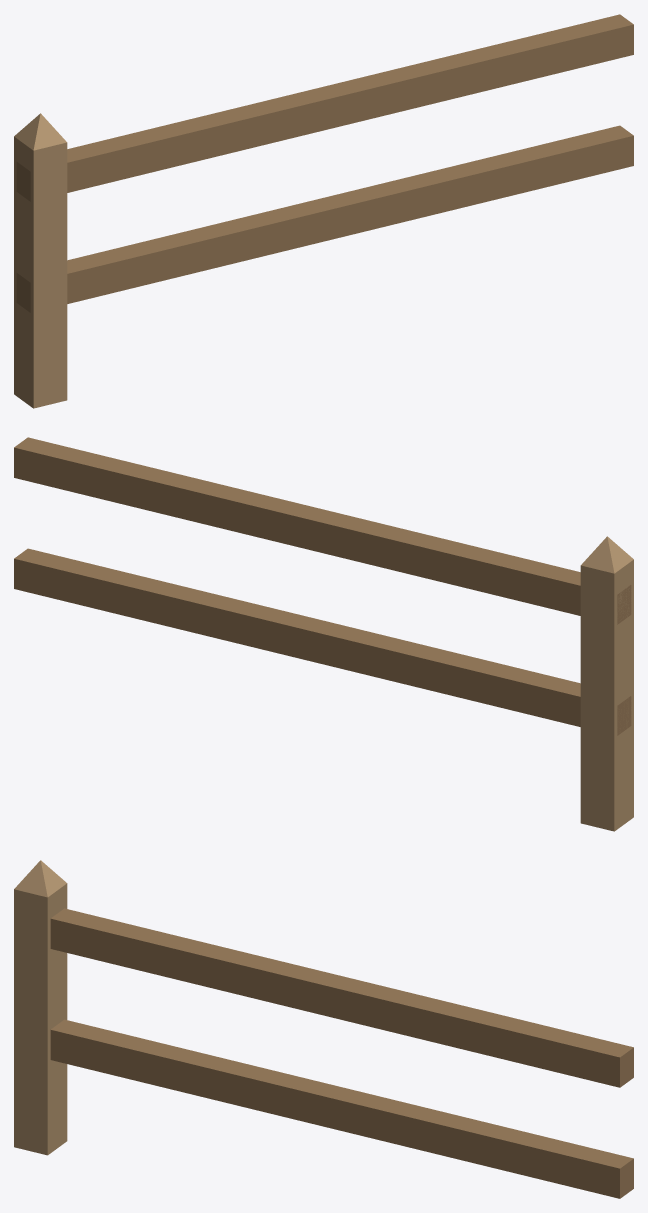
Rendered from fence_segment_01.glb.
3 views of the same model, one above another, from view 1: azimuth 30°, elevation 25°; view 2: azimuth 150°, elevation 25°; view 3: azimuth 330°, elevation 25° (orthographic).
Parts seen in each view (by area): view 1: Fence_segment_01; view 2: Fence_segment_01; view 3: Fence_segment_01.
Part boxes in pixels (x1,y1,x2,y2): Fence_segment_01: [14, 14, 633, 408]; Fence_segment_01: [14, 437, 633, 831]; Fence_segment_01: [14, 860, 633, 1198].
Size of the model in its own units: 2.5 by 1.13 by 0.14.
